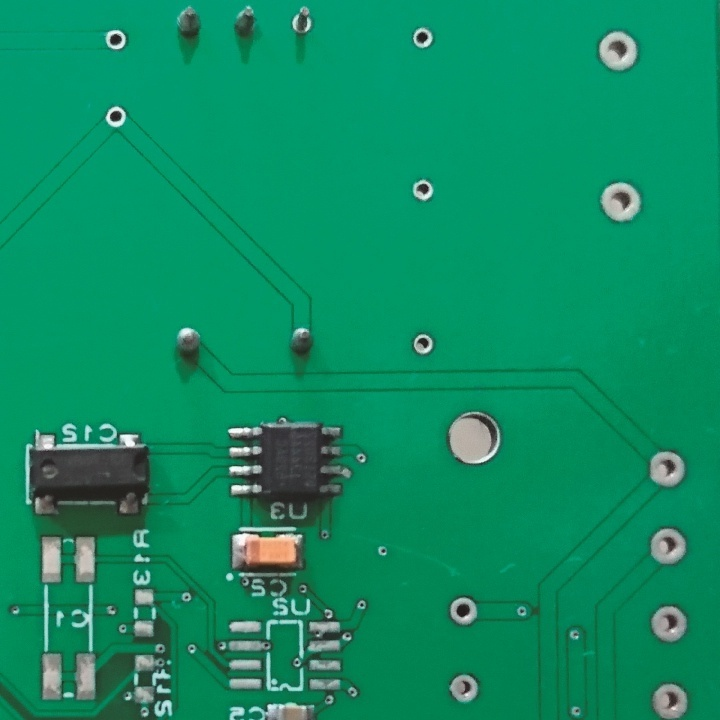F: (599, 178, 647, 227), (596, 26, 642, 75), (645, 449, 690, 492), (647, 524, 688, 568), (647, 604, 691, 644), (650, 681, 691, 720), (447, 670, 481, 706), (284, 4, 317, 41), (446, 595, 481, 628), (102, 25, 130, 51), (410, 24, 436, 52), (410, 176, 436, 203), (410, 331, 436, 357), (102, 105, 130, 129)
